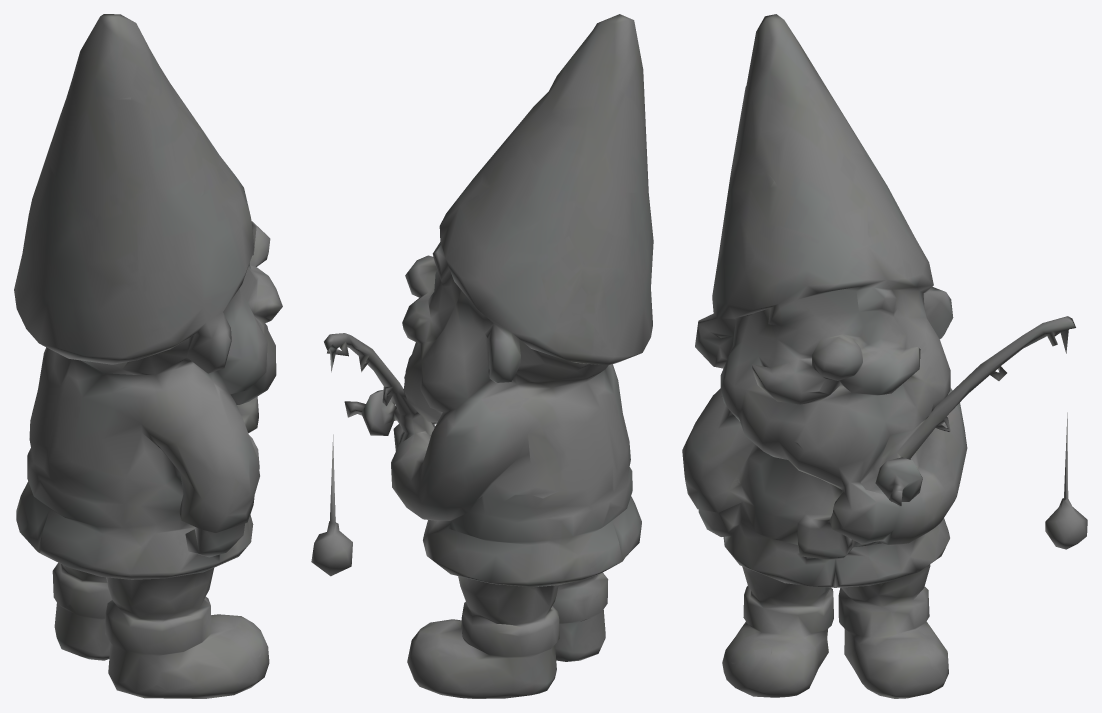
File: f-gnome.glb
3 views of the same model, side by side, from view 1: azimuth 30°, elevation 25°; view 2: azimuth 150°, elevation 25°; view 3: azimuth 270°, elevation 25° (orthographic). The views are drawn at different scales.
Visible parts, largest first — view 1: tripo_node_bddaee16-3da6-446c-9187-a644e64aff3b; view 2: tripo_node_bddaee16-3da6-446c-9187-a644e64aff3b; view 3: tripo_node_bddaee16-3da6-446c-9187-a644e64aff3b.
Part boxes in pixels (bbox=[...]): tripo_node_bddaee16-3da6-446c-9187-a644e64aff3b: bbox=[14, 14, 282, 698]; tripo_node_bddaee16-3da6-446c-9187-a644e64aff3b: bbox=[311, 14, 653, 698]; tripo_node_bddaee16-3da6-446c-9187-a644e64aff3b: bbox=[682, 14, 1087, 698].
Bounding box in the file's own units: 0.4192 × 1 × 0.5947.
Materials: 1 (1 with a texture image).
